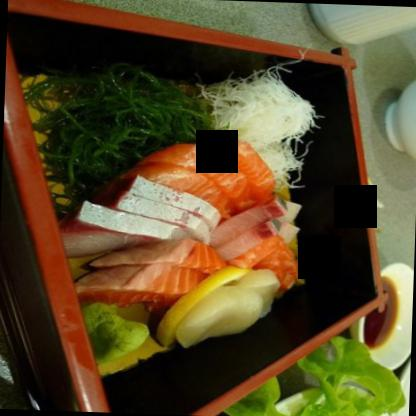salmon: (60, 137, 280, 262)
